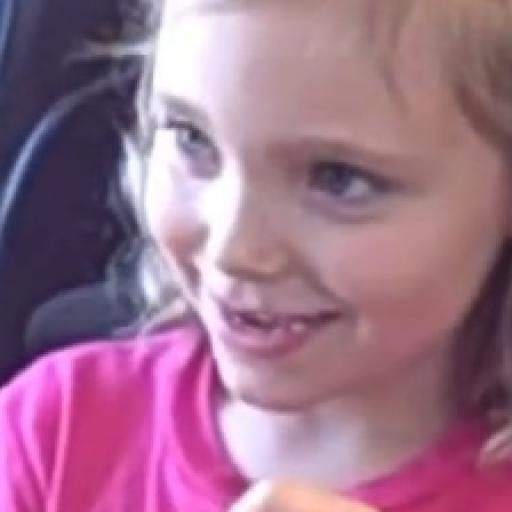Autism: (112, 13, 512, 512)
